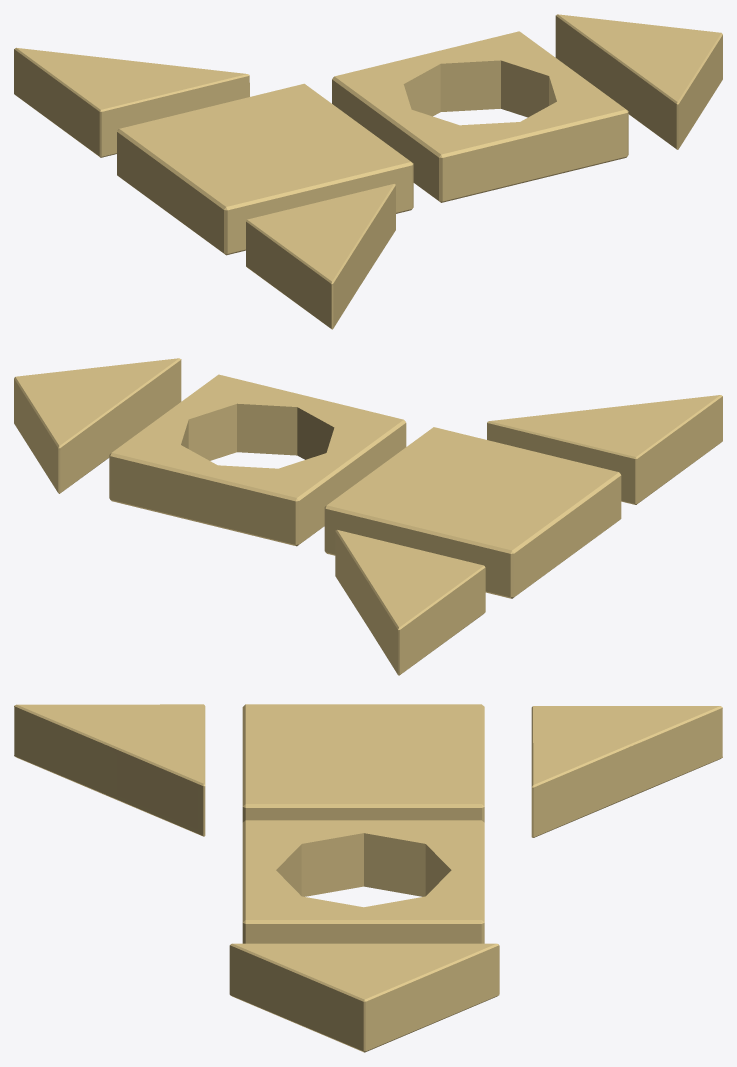
The model's file is Figura_Base.fbx.
3 views of the same model, one above another, from view 1: azimuth 30°, elevation 25°; view 2: azimuth 150°, elevation 25°; view 3: azimuth 270°, elevation 25° (orthographic). The views are drawn at different scales.
Visible parts, largest first — view 1: polySurface22, polySurface19, polySurface20, polySurface23, polySurface21; view 2: polySurface22, polySurface19, polySurface23, polySurface21, polySurface20; view 3: polySurface22, polySurface19, polySurface23, polySurface21, polySurface20.
Part boxes in pixels (x1,y1,x2,y2): polySurface22: (332, 31, 628, 202); polySurface19: (117, 83, 413, 255); polySurface20: (14, 47, 249, 157); polySurface23: (555, 14, 722, 149); polySurface21: (246, 184, 395, 329); polySurface22: (109, 374, 406, 546); polySurface19: (324, 427, 621, 598); polySurface23: (14, 358, 181, 493); polySurface21: (487, 395, 722, 504); polySurface20: (335, 530, 485, 675); polySurface22: (242, 820, 484, 943); polySurface19: (242, 704, 484, 822); polySurface23: (229, 943, 499, 1052); polySurface21: (14, 704, 205, 836); polySurface20: (531, 706, 722, 837).
Bounding box in the file's own units: 14.23 × 1.21 × 14.31.
